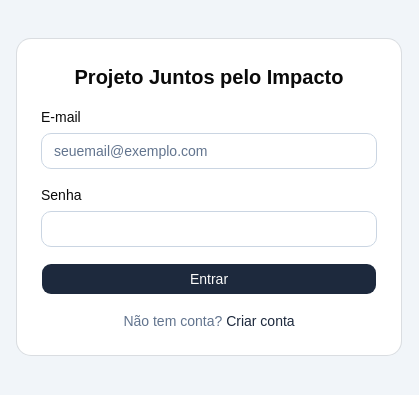
Test case: SignInPage › shows validation errors when submitting empty form
Click the button "Entrar": click(209, 279) [41, 263, 377, 295]
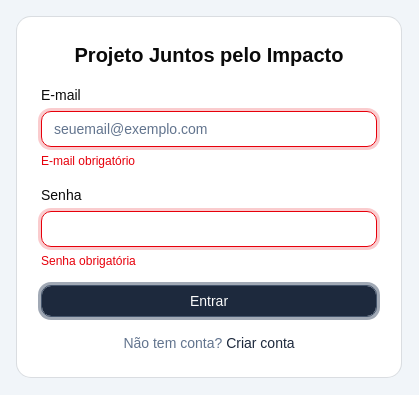
Result: the text "E-mail obrigatório" is shown at [41, 154, 135, 168]
Result: the text "Senha obrigatória" is shown at [41, 254, 136, 268]
